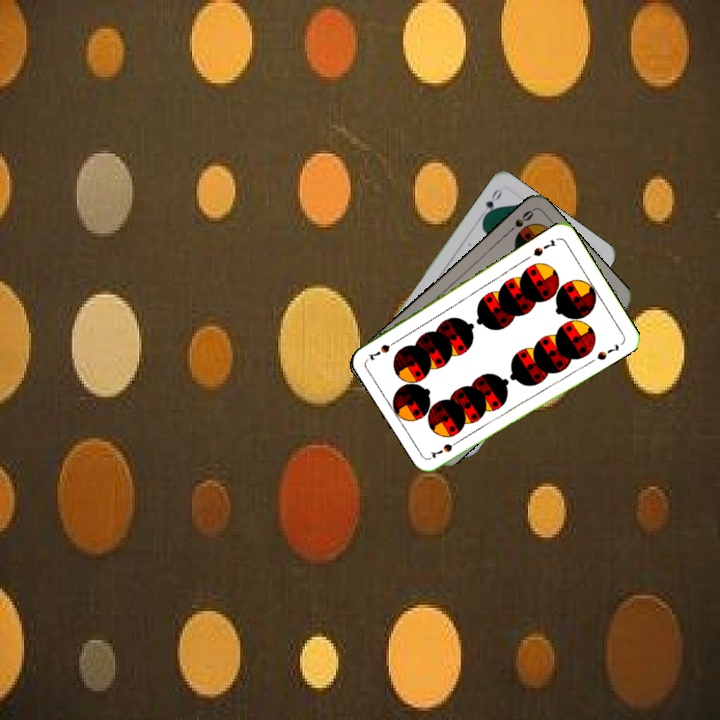GO: (479, 184, 505, 222)
S7: (427, 435, 464, 461), (529, 236, 559, 259)
SO: (502, 206, 536, 237)
